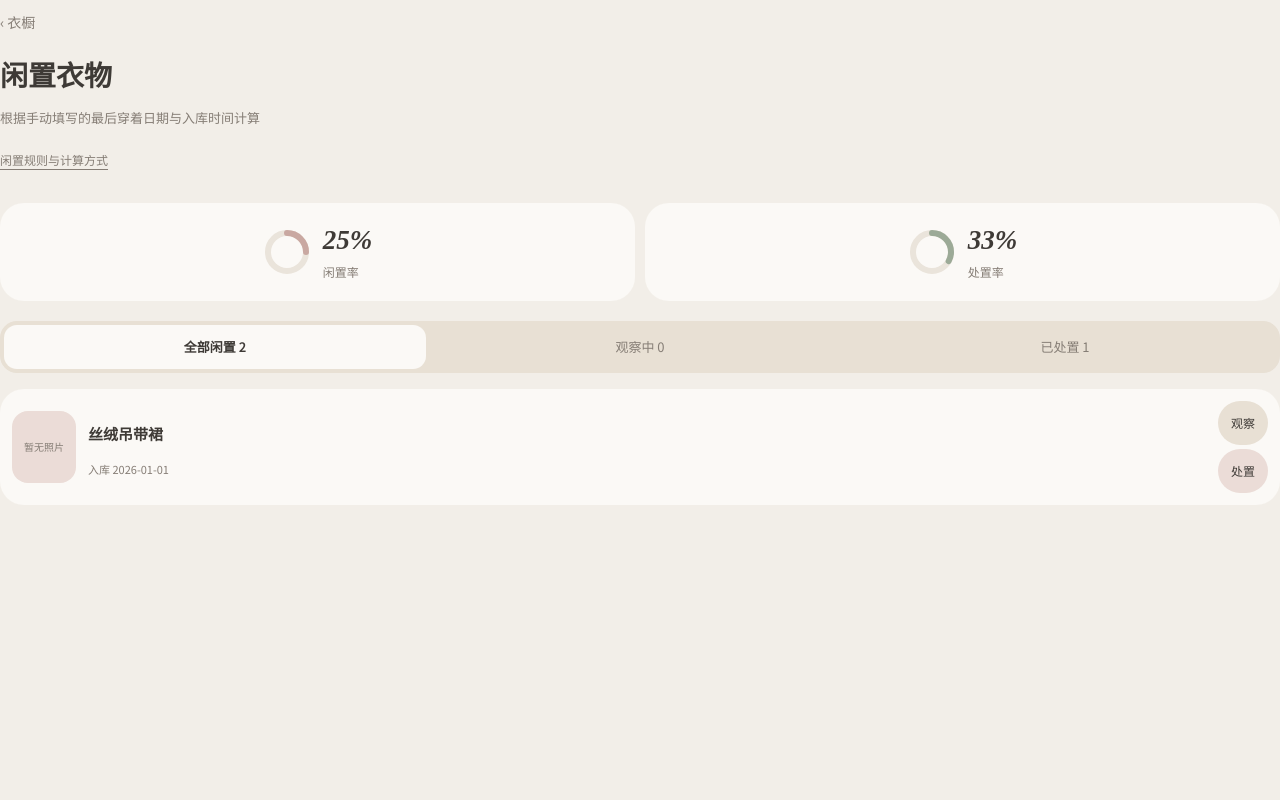
saves a disposal, closes the sheet and refreshes the disposed segment
Check: the link "丝绒吊带裙" is shown, box x1=88 y1=423 x2=163 y2=444
Click the button with aria-label "处置丝绒吊带裙": [1243, 471] box x1=1218 y1=449 x2=1268 y2=493
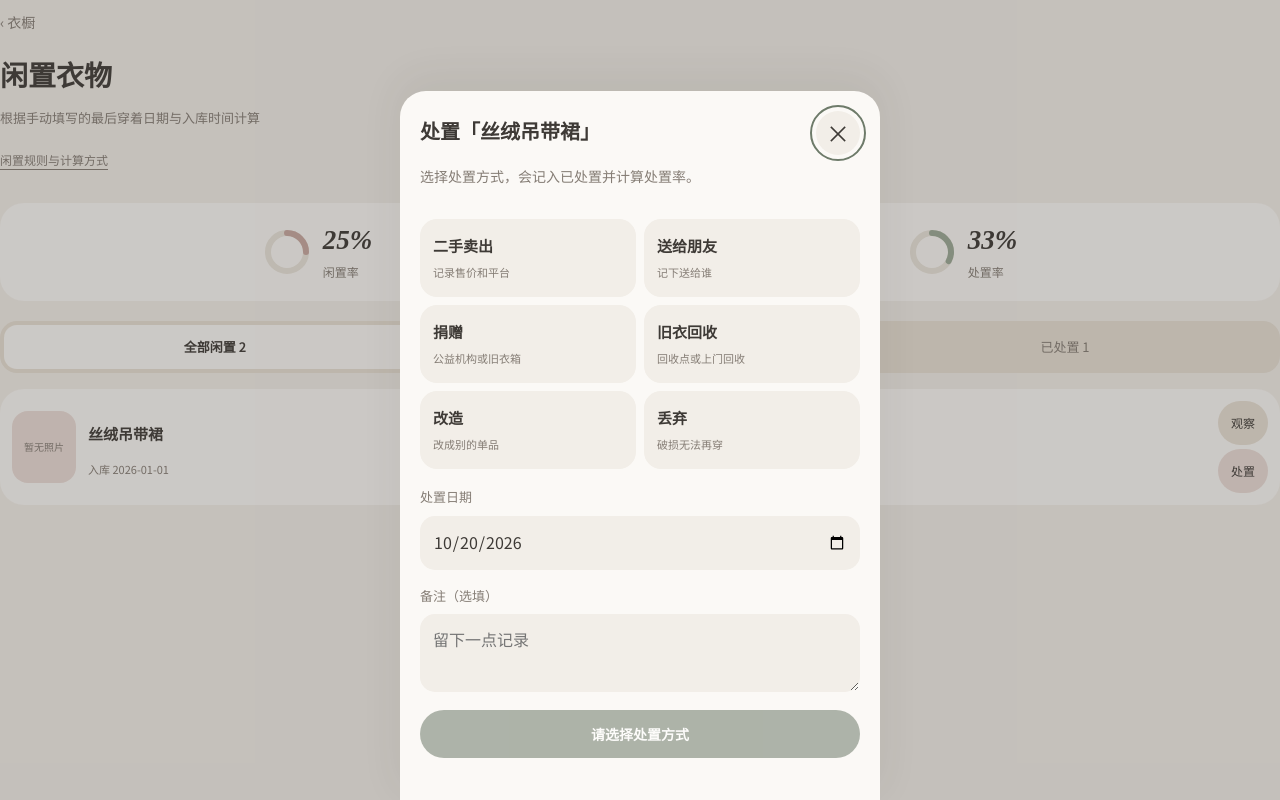
Click the radio button labelled "捐赠 公益机构或旧衣箱": [528, 344] box x1=420 y1=305 x2=636 y2=383
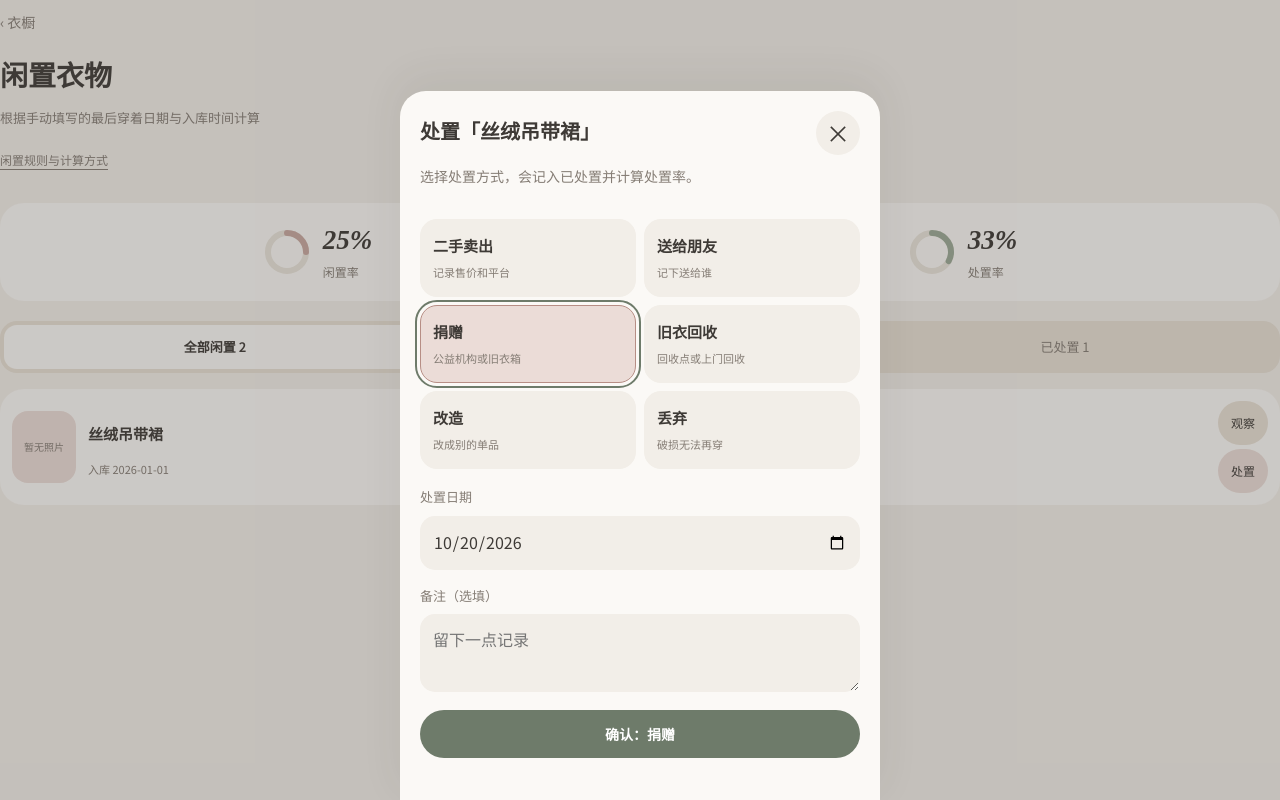
Click the button "确认：捐赠": [640, 734] box x1=420 y1=710 x2=860 y2=758
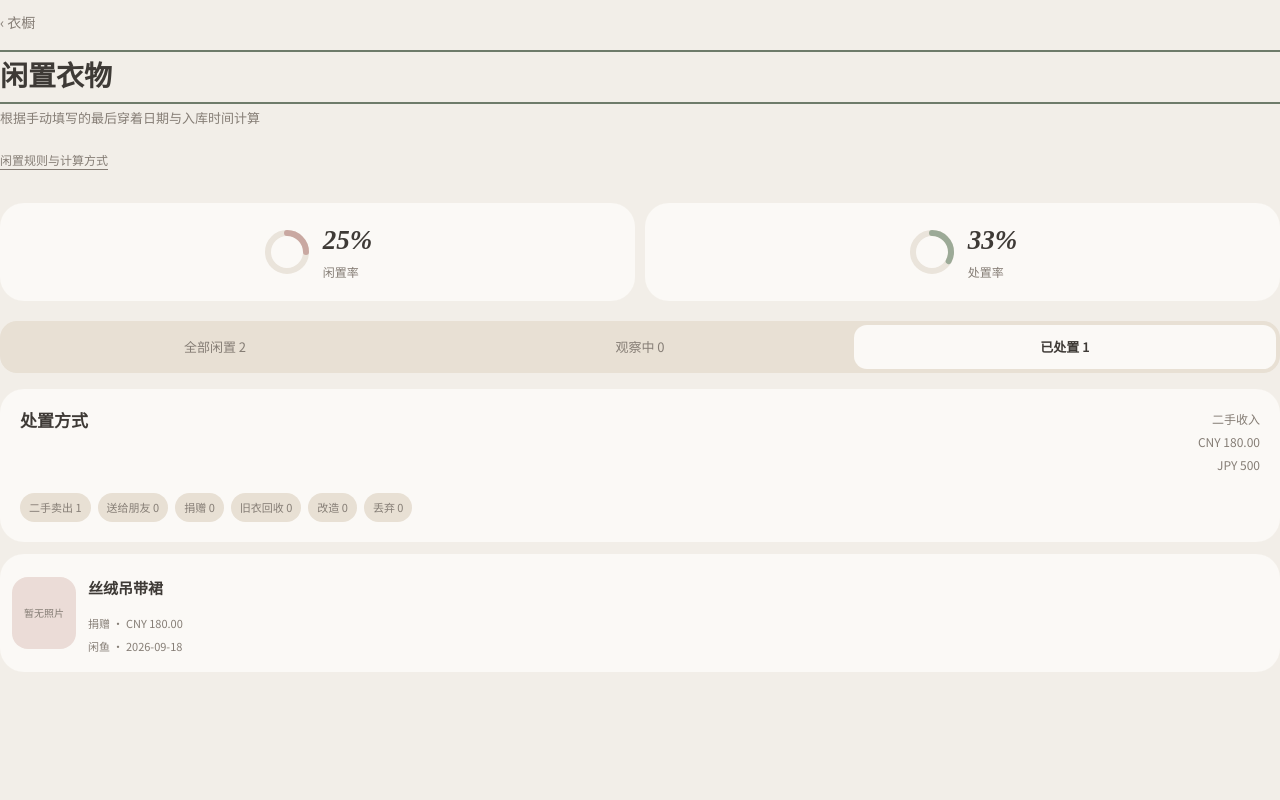
Check: the heading "丝绒吊带裙" is shown, box x1=88 y1=577 x2=163 y2=598
Check: the dialog is gone
